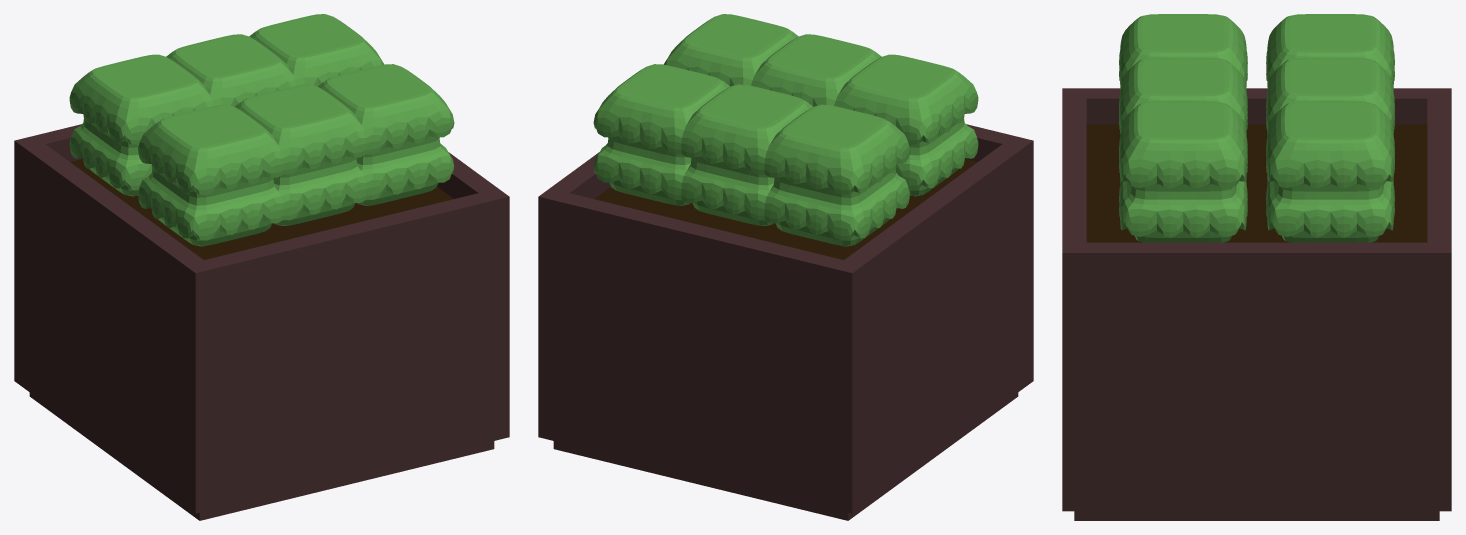
The model's file is Jardinera2.fbx.
The picture shows the model from 3 angles, left to right: view 1: azimuth 30°, elevation 25°; view 2: azimuth 150°, elevation 25°; view 3: azimuth 270°, elevation 25°; orthographic projection. The views are drawn at different scales.
Visible parts, largest first — view 1: Jardinera2; view 2: Jardinera2; view 3: Jardinera2.
Boxes of the visible parts, x1,y1,x2,y2 form: Jardinera2: [14, 14, 509, 520]; Jardinera2: [538, 14, 1033, 520]; Jardinera2: [1062, 14, 1451, 520].
Bounding box in the file's own units: 51.28 × 53.33 × 51.28.
